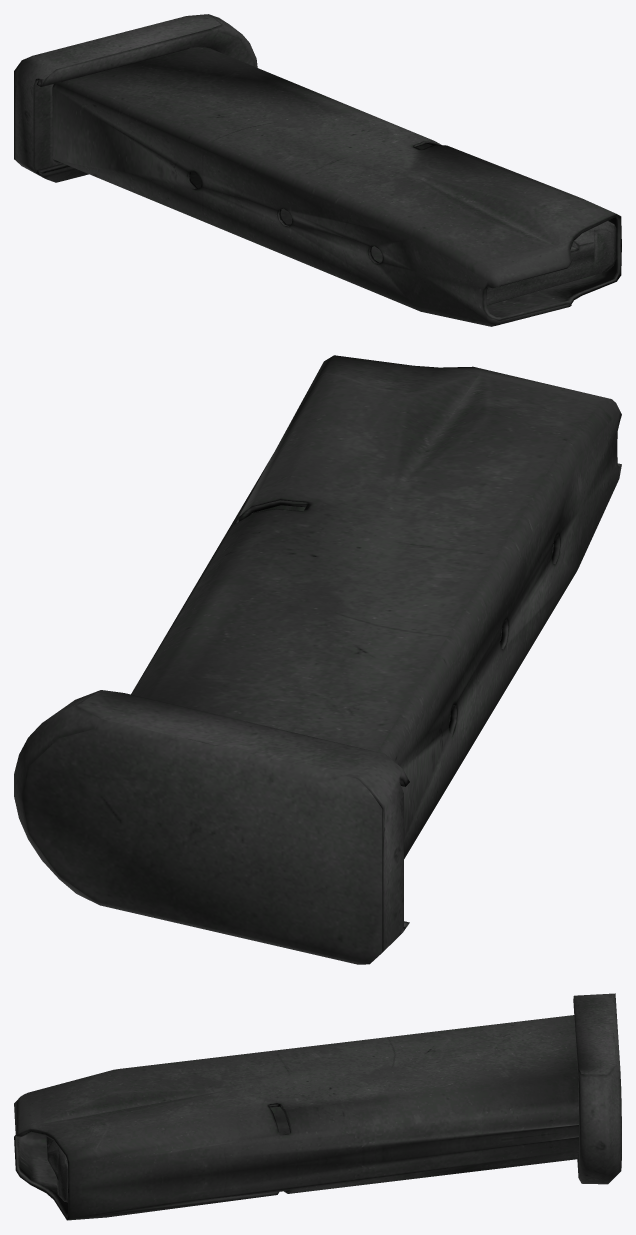
The model's file is Mag57.fbx.
3 renders of one model, top to bottom at view 1: azimuth 30°, elevation 25°; view 2: azimuth 150°, elevation 25°; view 3: azimuth 270°, elevation 25°, orthographic. The views are drawn at different scales.
Visible parts, largest first — view 1: Maf57; view 2: Maf57; view 3: Maf57.
Part boxes in pixels (left/top/right/bottom): Maf57: left=14, top=14, right=621, bottom=326; Maf57: left=14, top=355, right=621, bottom=964; Maf57: left=14, top=993, right=621, bottom=1220.
Bounding box in the file's own units: 0.0601 × 0.0204 × 0.1026.
